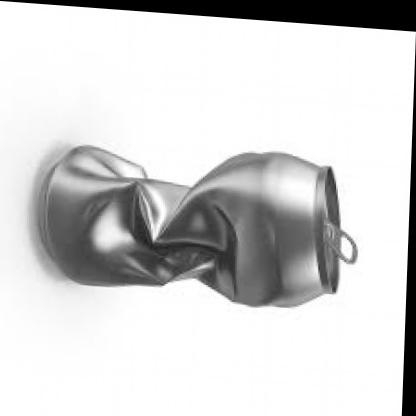trash: (39, 145, 356, 305)
